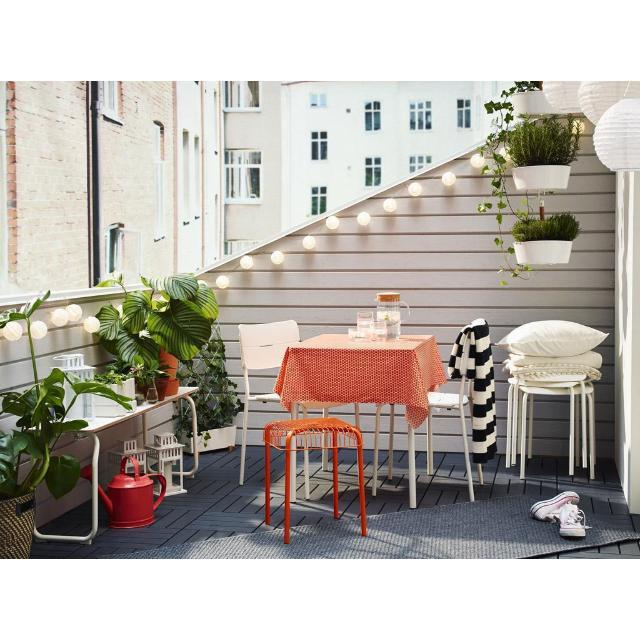chair: (238, 320, 300, 484), (428, 375, 475, 500)
light: (594, 99, 640, 171), (578, 81, 640, 125), (542, 81, 581, 114)
pillow: (498, 320, 609, 357)
plant: (0, 342, 129, 558), (508, 115, 582, 193), (511, 212, 580, 265)
rug: (106, 496, 640, 558)
stool: (265, 417, 366, 544)
table: (274, 335, 446, 508)
